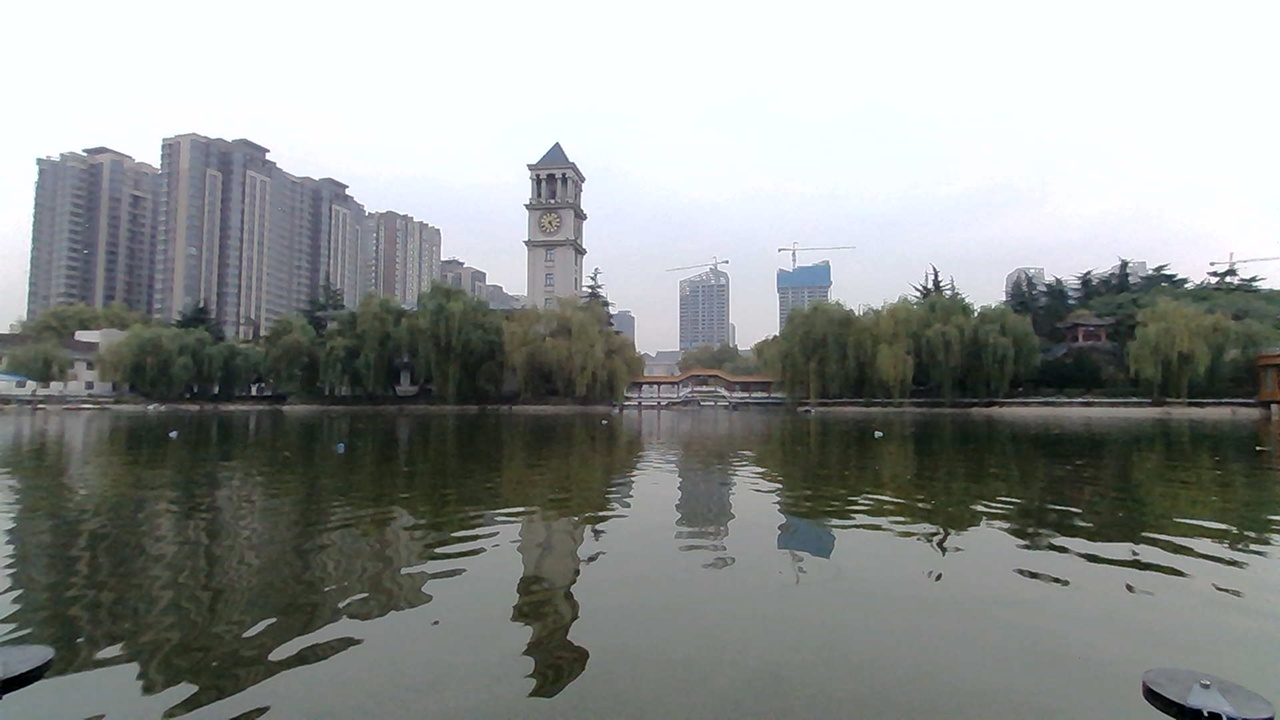bottle: (862, 423, 900, 444), (325, 437, 359, 459), (164, 417, 185, 445)
